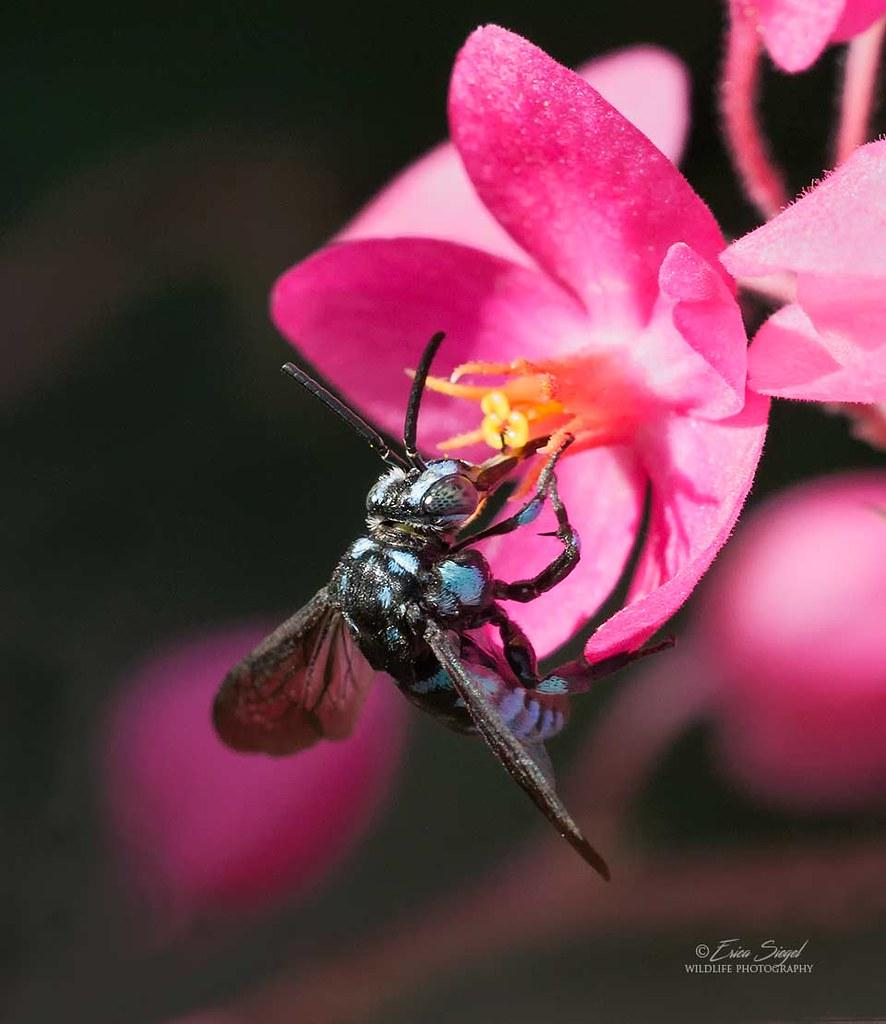Thyreus: (209, 318, 637, 894)
